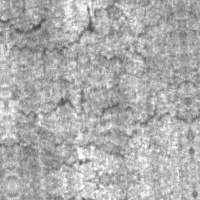crazing: (5, 66, 190, 148), (97, 0, 177, 69), (0, 3, 97, 59)
